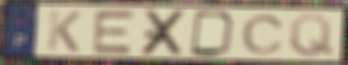C: (240, 14, 287, 56)
D: (188, 9, 239, 58)
E: (89, 9, 139, 56)
K: (45, 9, 84, 54)
Q: (288, 12, 337, 58)
X: (138, 9, 191, 57)
